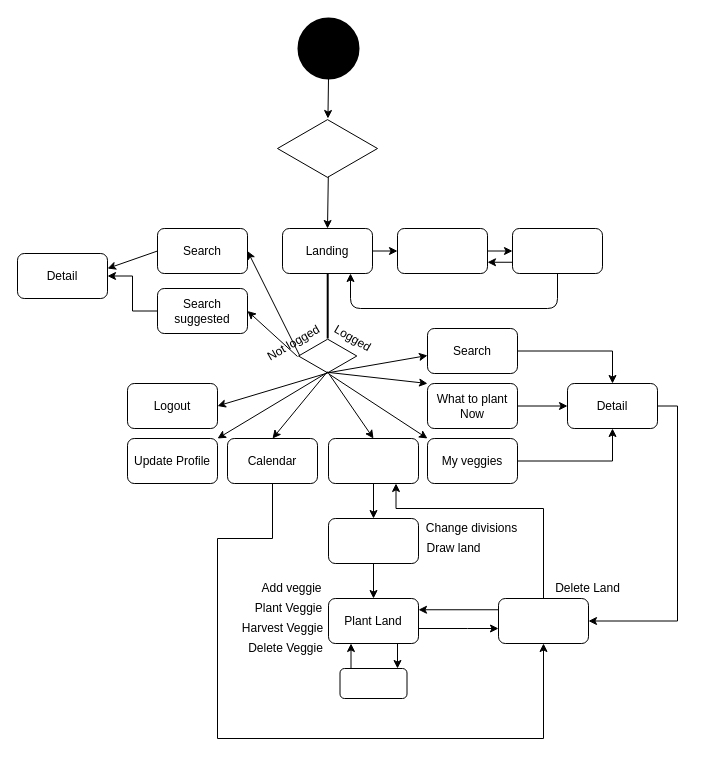
This 703x764 diagram has some shape labels left out. The shapes that lost their labels are listed below. From the top down, each one's centre as x and y in pixels, then its label:
(327,148): Init Sreen
(442,251): Register
(557,251): Login
(373,461): My Lands
(373,541): Create Land
(543,621): Land
(373,683): Plant Now Modal
